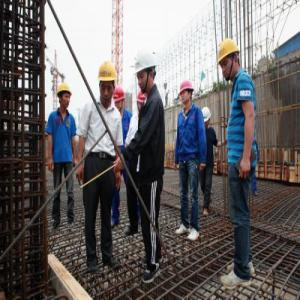red: (179, 81, 195, 108), (114, 87, 127, 112), (137, 90, 148, 111)
white: (134, 50, 158, 93), (202, 106, 212, 128)
yellow: (217, 37, 242, 84), (99, 63, 117, 106), (58, 82, 73, 109)
